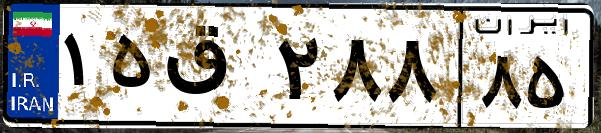1: (57, 26, 110, 100)
2: (270, 28, 330, 110)
5: (525, 38, 570, 115), (110, 28, 158, 98)
8: (385, 28, 445, 110), (330, 28, 385, 110), (475, 38, 525, 113)
ق: (158, 20, 270, 120)
